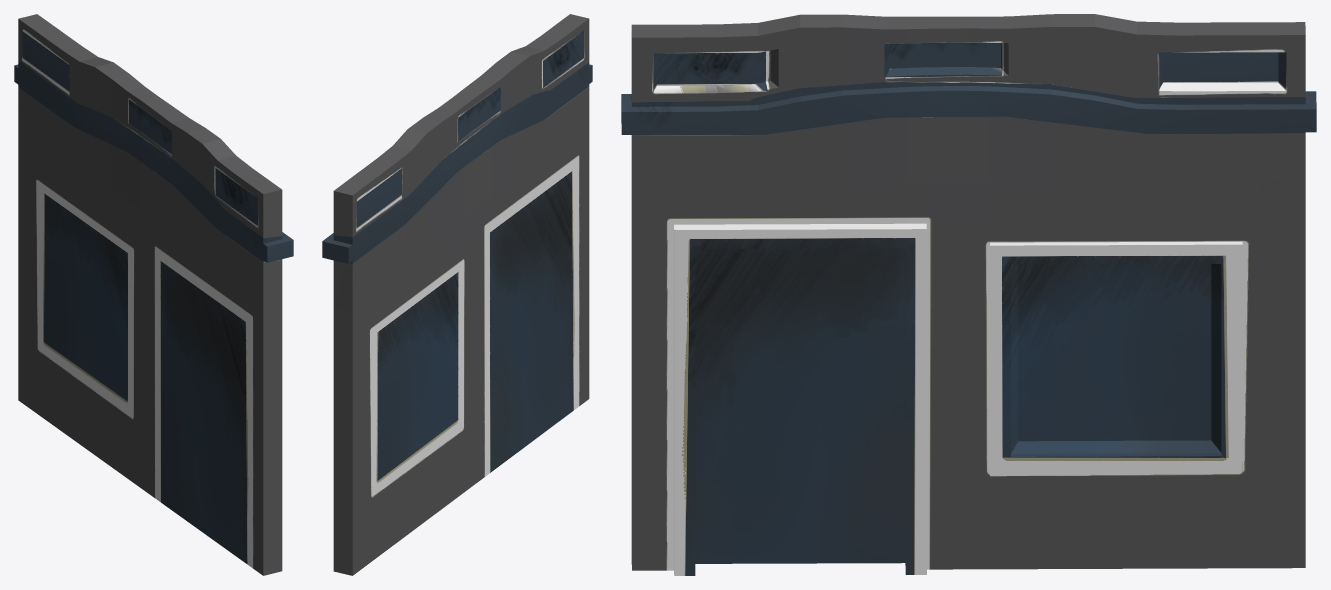
File: casa6.fbx
3 renders of one model, left to right at view 1: azimuth 30°, elevation 25°; view 2: azimuth 150°, elevation 25°; view 3: azimuth 270°, elevation 25°, orthographic. The views are drawn at different scales.
Parts seen in each view (by area): view 1: casa2.001; view 2: casa2.001; view 3: casa2.001.
Part boxes in pixels (<box>): casa2.001: <box>14,14,293,575</box>; casa2.001: <box>322,14,592,575</box>; casa2.001: <box>621,14,1316,575</box>.
Size of the model in its own units: 14.53 by 176 by 205.
1 material, 1 textured.
